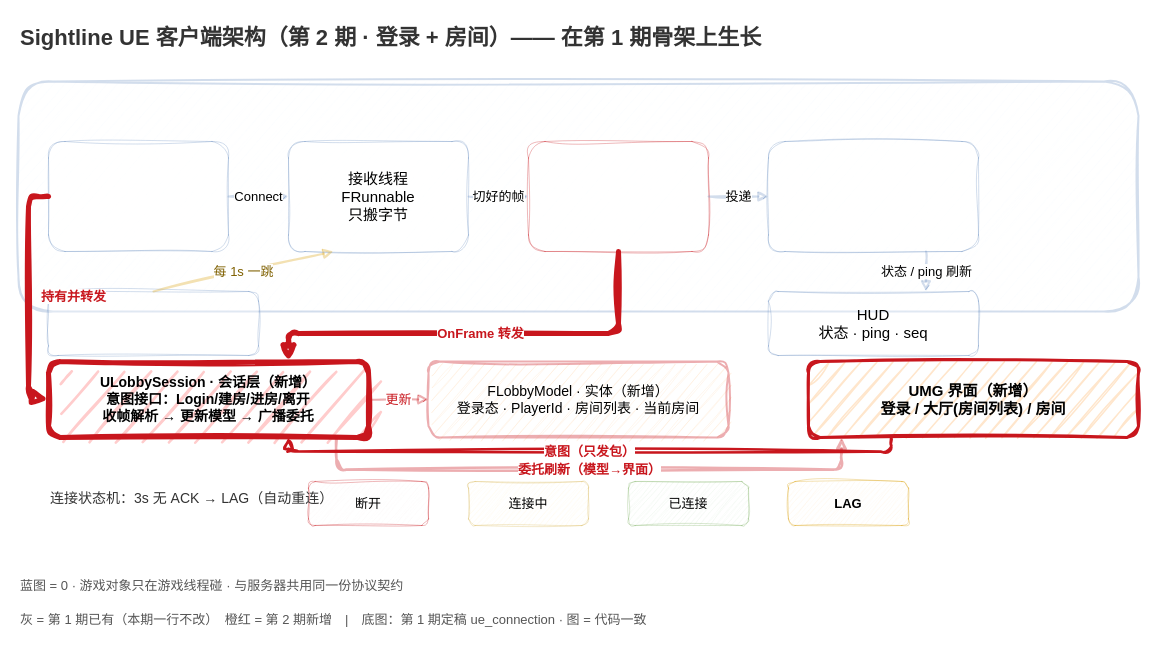
The diagram is 1175 pixels wide and 648 high, and some of its shapes have lost their labels. The centre of each missing label's shape, as x and y in pixels:
"AsyncTask 唯一跨线程门" goes at (618,196).
"GameInstance 管连接生死 （切关卡不死）" goes at (138,196).
"帧处理器（游戏线程） WELCOME→Connected ACK 按 seq 匹配→ping" goes at (873,196).
"心跳计时器 每 1s：seq++ · 组帧发送" goes at (153,323).
